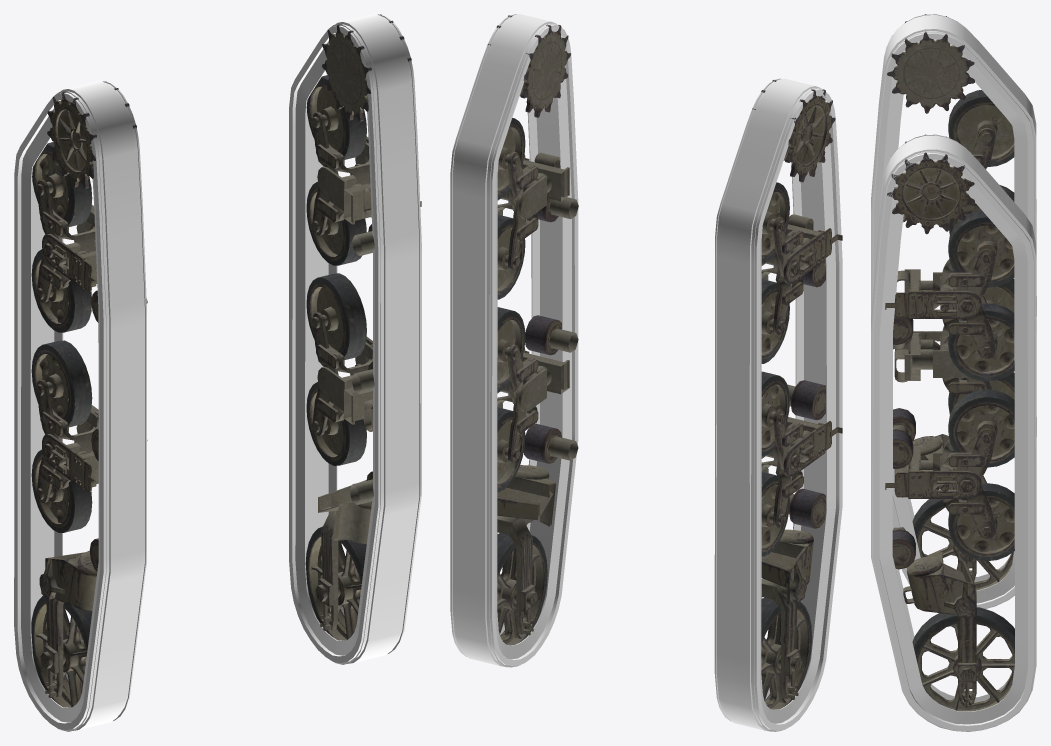
File: Chassis.glb
3 renders of one model, left to right at view 1: azimuth 30°, elevation 25°; view 2: azimuth 150°, elevation 25°; view 3: azimuth 270°, elevation 25°, orthographic. The views are drawn at different scales.
Parts seen in each view (by area): view 1: set_2_group_0, set_3_group_0, set_1_group_0, set_0_group_0; view 2: set_3_group_0, set_2_group_0, set_0_group_0, set_1_group_0; view 3: set_0_group_0, set_2_group_0, set_1_group_0, set_3_group_0.
Part boxes in pixels (<box>): set_2_group_0: <box>289,14,421,664</box>; set_3_group_0: <box>14,81,146,731</box>; set_1_group_0: <box>31,81,147,707</box>; set_0_group_0: <box>305,14,421,640</box>; set_3_group_0: <box>714,78,842,731</box>; set_2_group_0: <box>450,14,578,667</box>; set_0_group_0: <box>487,15,578,645</box>; set_1_group_0: <box>752,80,842,709</box>; set_0_group_0: <box>885,134,1014,711</box>; set_2_group_0: <box>871,134,1036,731</box>; set_1_group_0: <box>887,14,1014,590</box>; set_3_group_0: <box>871,14,1036,608</box>.
Size of the model in its own units: 2.26 by 4.19 by 1.08.
4 materials, 2 textured.
